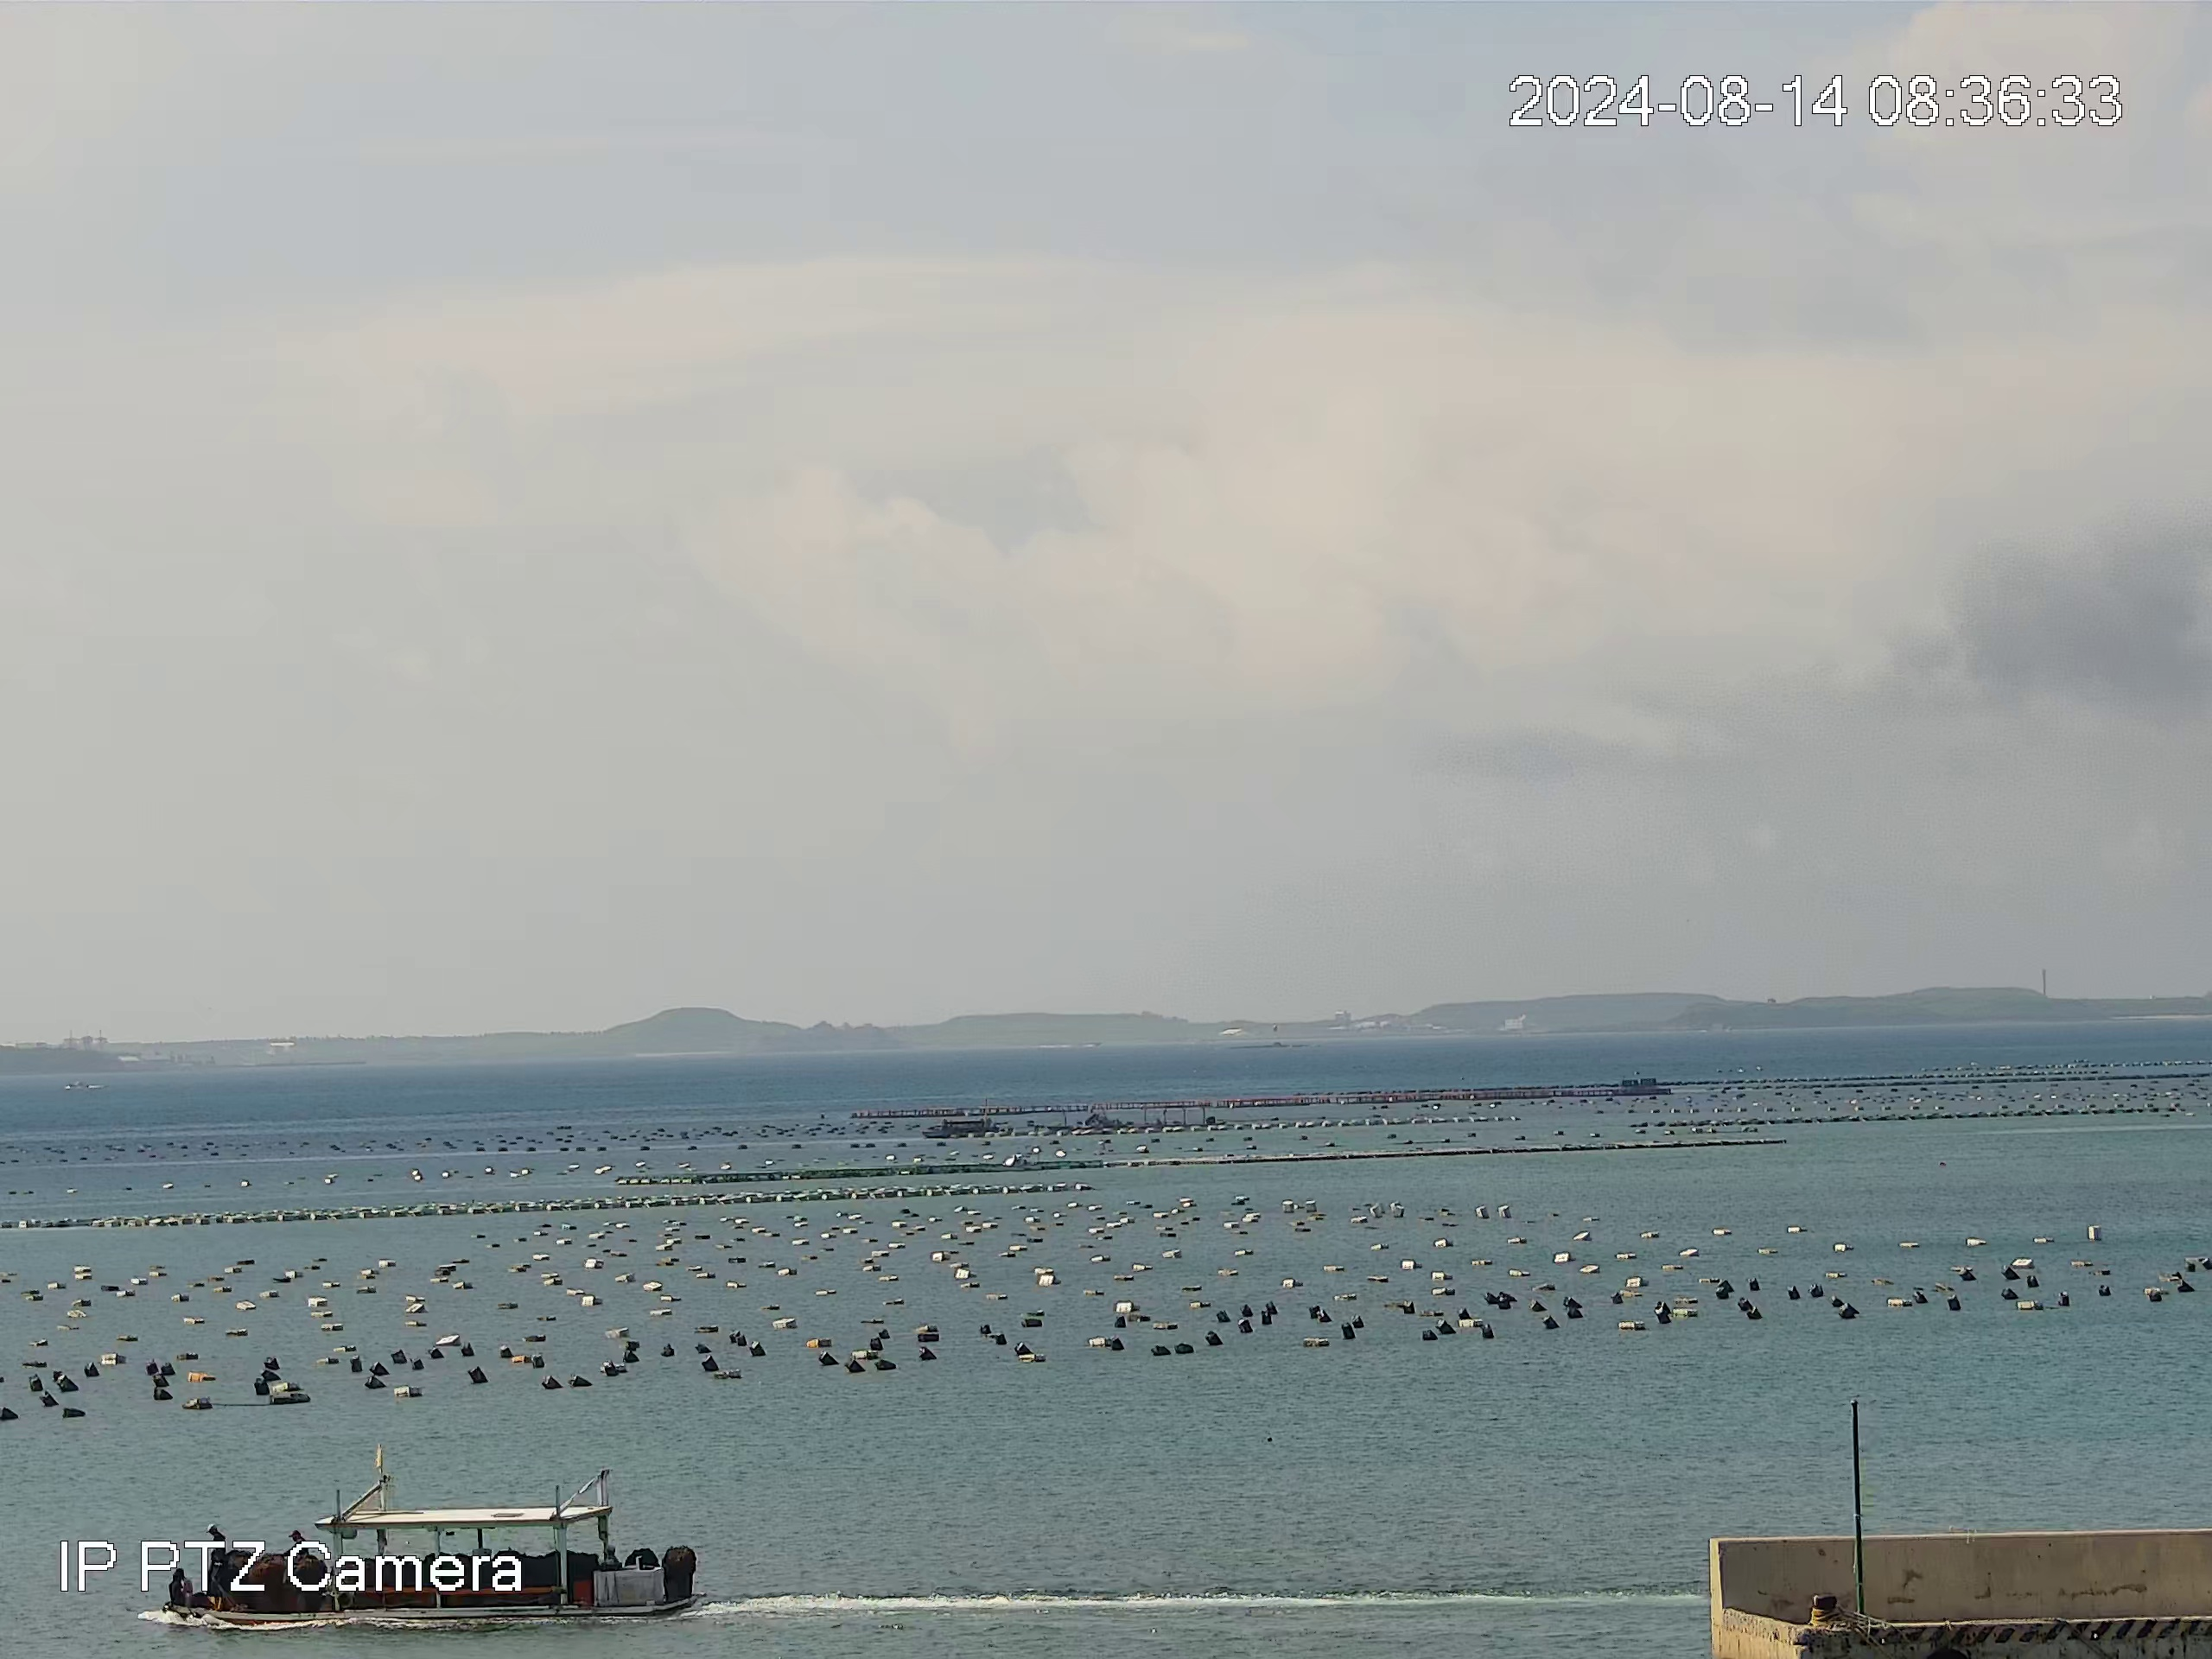boat: (927, 1114, 996, 1138)
